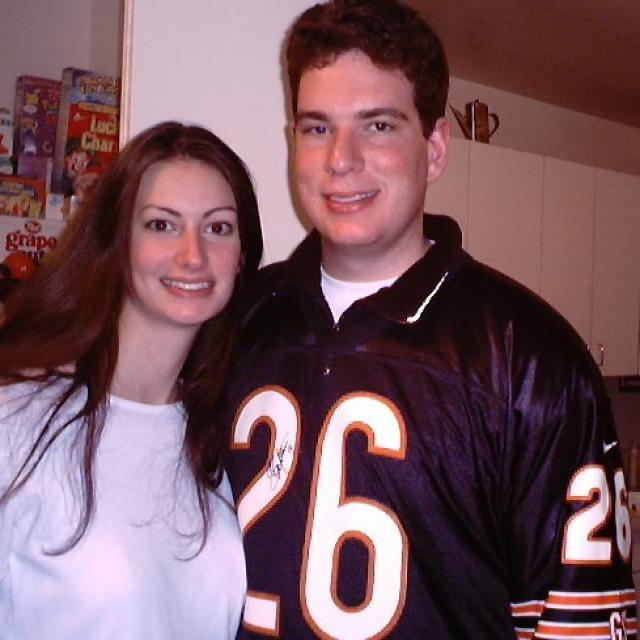person: (227, 1, 640, 640), (1, 121, 264, 640)
